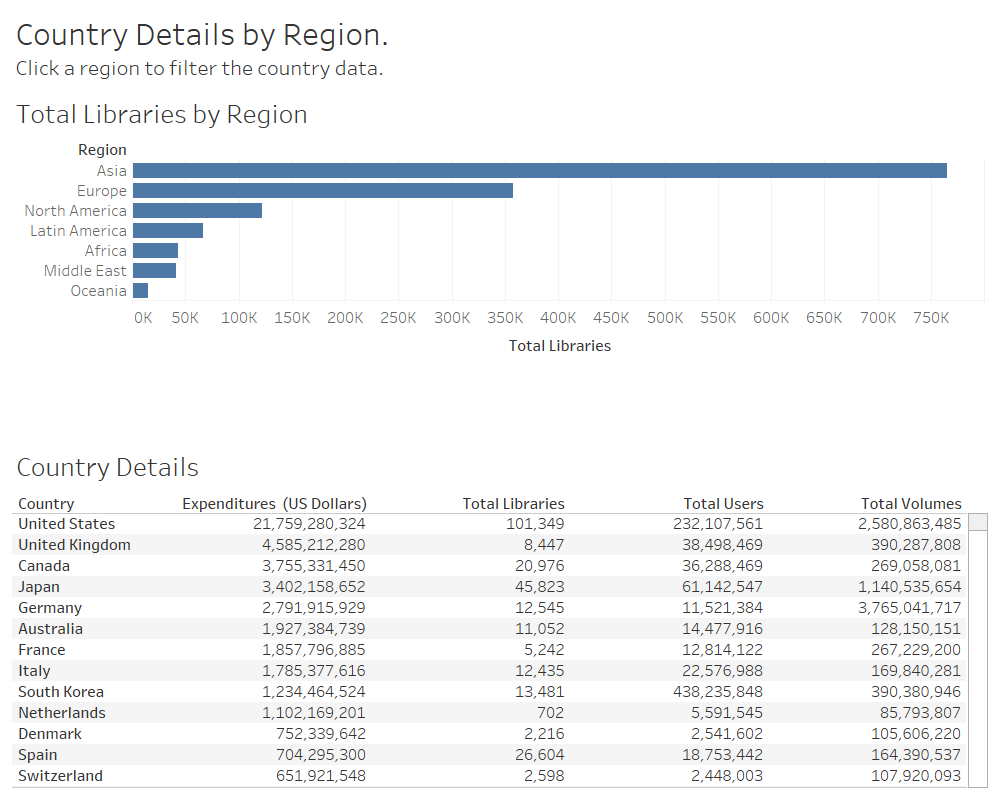

Layout of this report page (visuals, bound fields, positions):
{"tool":"tableau","page":{"name":"Country Details by Region.","canvas":[1000,800],"ordinal":0},"visuals":[{"type":"title","box":[8,8,984,78]},{"type":"worksheet","title":"Total Libraries by Region ","mark":"Automatic","rows":["Region"],"cols":["Total Libraries"],"box":[8,86,984,353]},{"type":"worksheet","title":"Country Details","mark":"Automatic","rows":["Country"],"box":[8,439,984,353]}]}

Visuals, with their boxes in screenshot pixels (x1, y1, x2, y2), scaled from the page's 1000x800 canvas onto the 1000x800 screenshot:
title: region(8, 8, 992, 86)
"Total Libraries by Region " worksheet: region(8, 86, 992, 439)
"Country Details" worksheet: region(8, 439, 992, 792)
